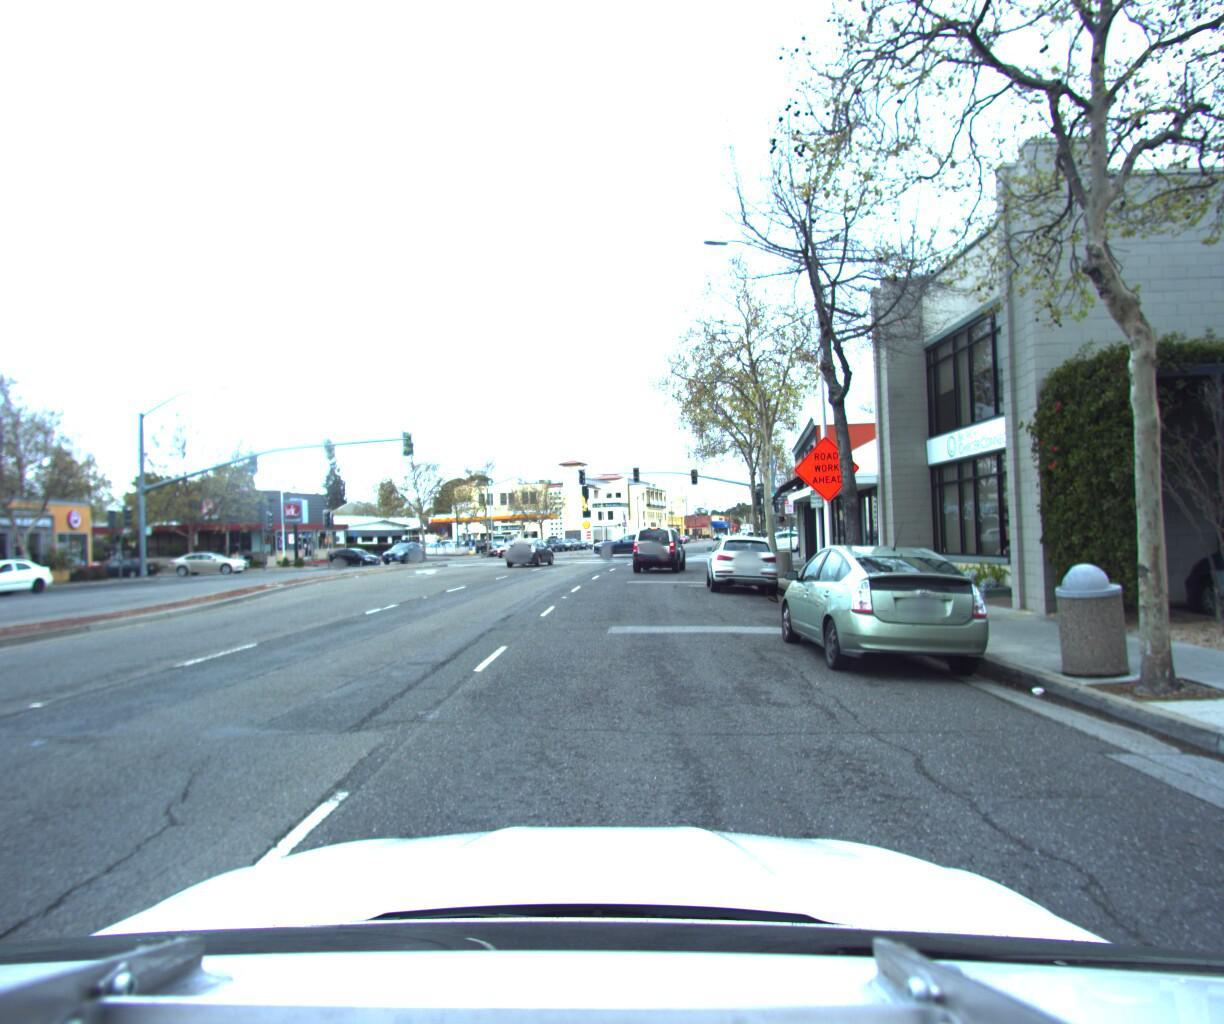car: (762, 549, 1011, 708), (1161, 471, 1224, 680), (702, 542, 779, 609), (0, 567, 65, 617), (628, 529, 686, 581), (170, 559, 256, 586), (587, 540, 659, 569), (500, 546, 556, 580), (762, 537, 835, 562), (379, 549, 427, 573)
